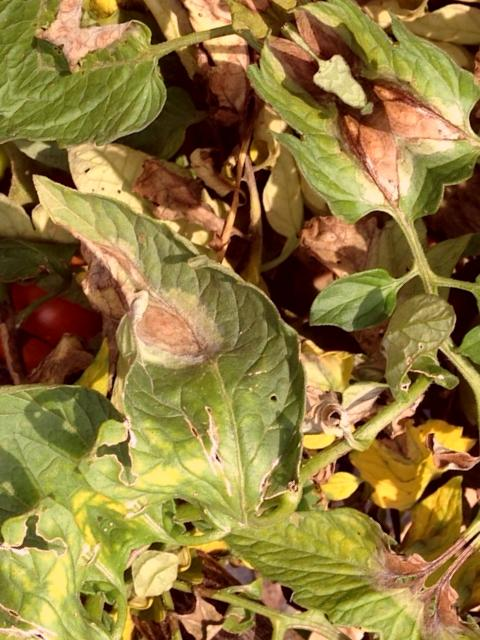Tomato leaf late blight: (0, 126, 389, 575), (219, 26, 461, 267), (207, 430, 444, 640), (0, 0, 211, 233)
